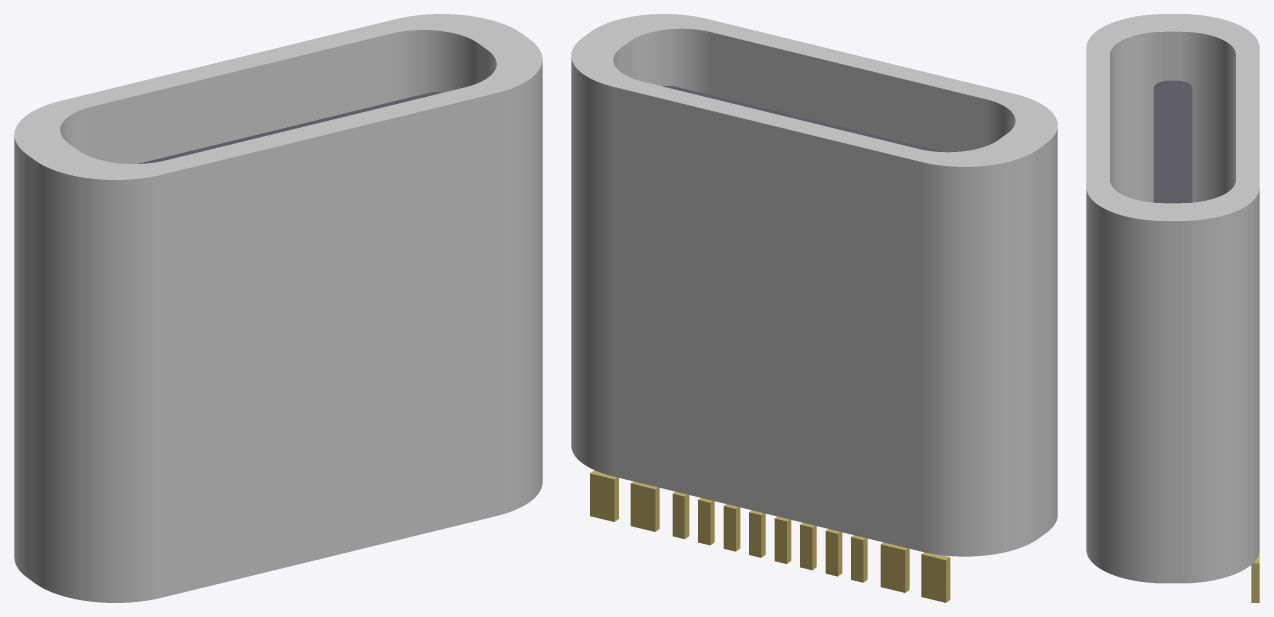
File: usb_c_16p.glb
The picture shows the model from 3 angles, left to right: view 1: azimuth 30°, elevation 25°; view 2: azimuth 150°, elevation 25°; view 3: azimuth 270°, elevation 25°; orthographic projection. The views are drawn at different scales.
Parts seen in each view (by area): view 1: world; view 2: world; view 3: world.
Part boxes in pixels (x1=…): world: x1=14, y1=14, x2=542, y2=602; world: x1=571, y1=14, x2=1057, y2=602; world: x1=1086, y1=14, x2=1259, y2=602.
Bounding box in the file's own units: 8.94 × 8.15 × 3.16.
